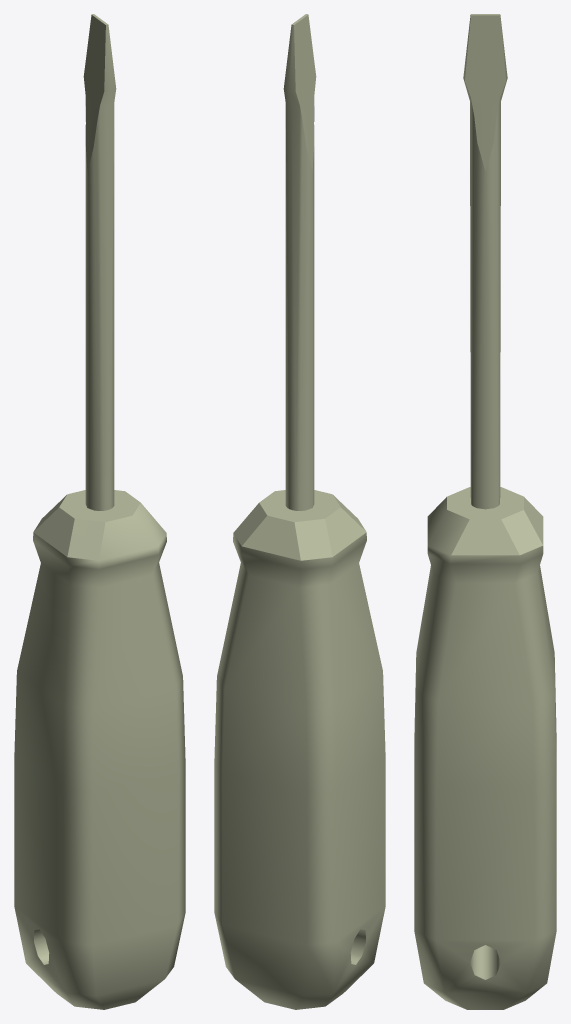
The model's file is SM_ScrewDriver_01c.FBX.
The picture shows the model from 3 angles, left to right: view 1: azimuth 30°, elevation 25°; view 2: azimuth 150°, elevation 25°; view 3: azimuth 270°, elevation 25°; orthographic projection.
Parts seen in each view (by area): view 1: SM_ScrewDriver_01c_LOD0; view 2: SM_ScrewDriver_01c_LOD0; view 3: SM_ScrewDriver_01c_LOD0.
Boxes of the visible parts, <box> form: SM_ScrewDriver_01c_LOD0: <box>14,14,185,1009</box>; SM_ScrewDriver_01c_LOD0: <box>214,14,385,1009</box>; SM_ScrewDriver_01c_LOD0: <box>414,14,556,1009</box>.
Size of what is drawn, in the model's own units: 2.58 by 19.55 by 2.58.
